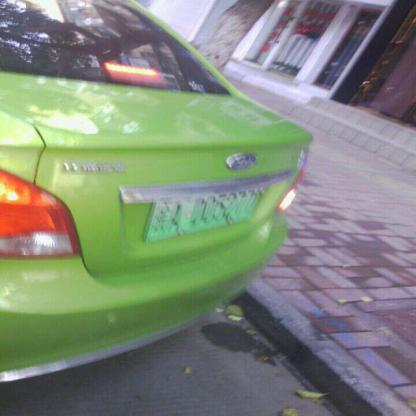lp: (146, 187, 264, 242)
